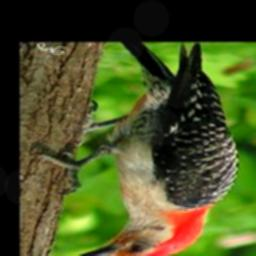Woodpecker: (28, 42, 242, 256)
